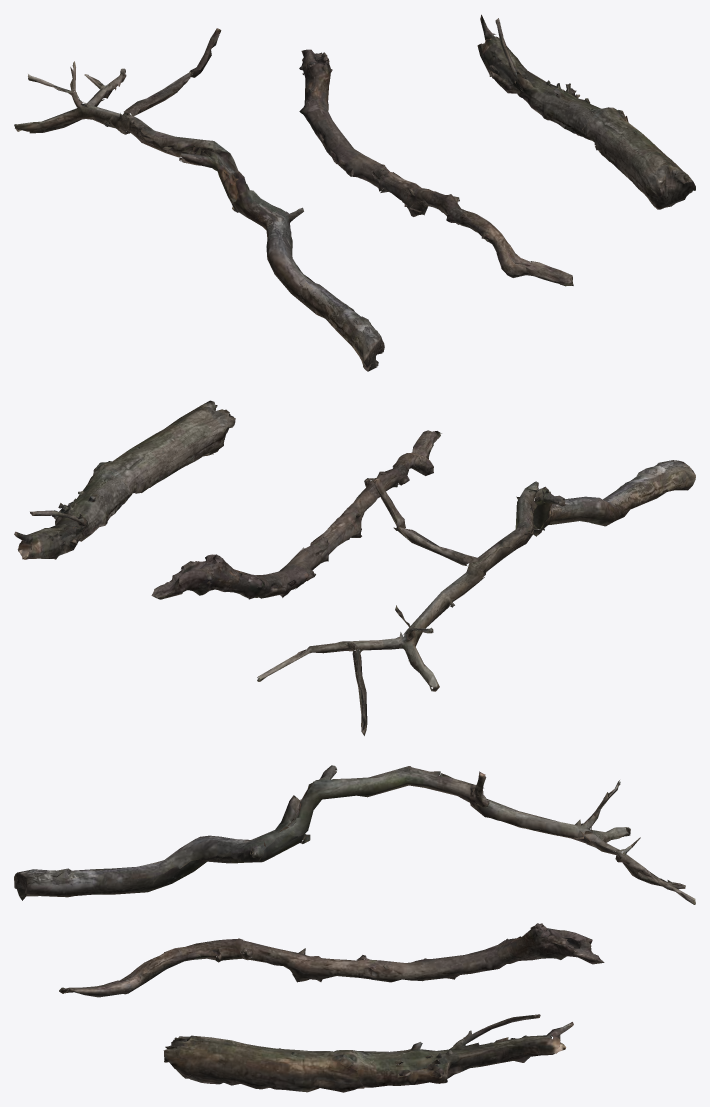
The model's file is dry_branches_medium_01.glb.
The picture shows the model from 3 angles, top to bottom: view 1: azimuth 30°, elevation 25°; view 2: azimuth 150°, elevation 25°; view 3: azimuth 270°, elevation 25°; orthographic projection. The views are drawn at different scales.
Parts seen in each view (by area): view 1: dry_branches_medium_01_a, dry_branches_medium_01_c, dry_branches_medium_01_b; view 2: dry_branches_medium_01_a, dry_branches_medium_01_c, dry_branches_medium_01_b; view 3: dry_branches_medium_01_a, dry_branches_medium_01_c, dry_branches_medium_01_b.
Boxes of the visible parts, x1=… form: dry_branches_medium_01_a: x1=14, y1=28, x2=384, y2=371; dry_branches_medium_01_c: x1=477, y1=14, x2=695, y2=209; dry_branches_medium_01_b: x1=299, y1=49, x2=573, y2=286; dry_branches_medium_01_a: x1=257, y1=460, x2=695, y2=735; dry_branches_medium_01_c: x1=14, y1=400, x2=235, y2=559; dry_branches_medium_01_b: x1=151, y1=430, x2=441, y2=599; dry_branches_medium_01_a: x1=14, y1=765, x2=695, y2=904; dry_branches_medium_01_c: x1=163, y1=1014, x2=573, y2=1092; dry_branches_medium_01_b: x1=59, y1=923, x2=604, y2=997.
Bounding box in the file's own units: 1.06 × 0.3401 × 1.3.
Materials: 1 (1 with a texture image).
